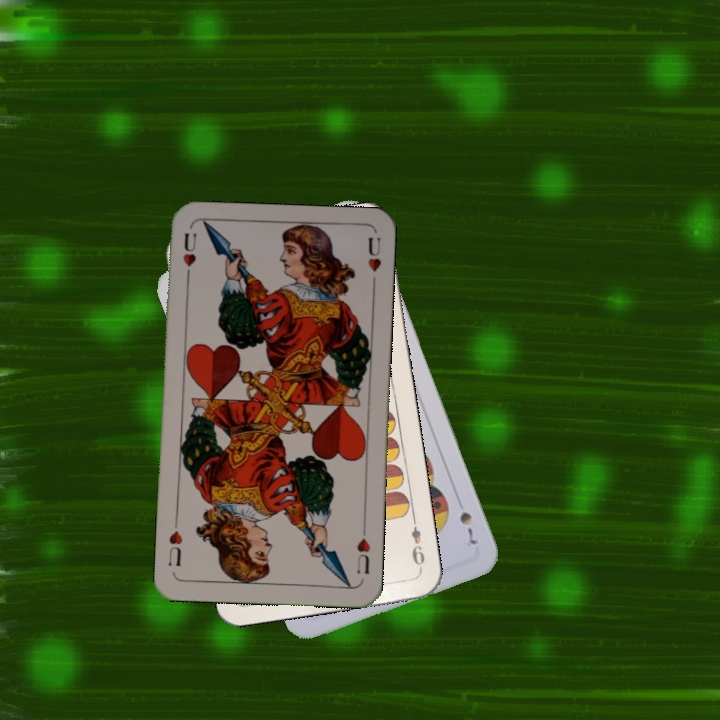E9: (407, 514, 428, 573)
HU: (179, 228, 199, 285), (353, 522, 373, 577)
S7: (455, 507, 479, 548)
